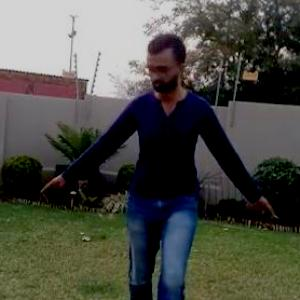land: (53, 48, 286, 299)
